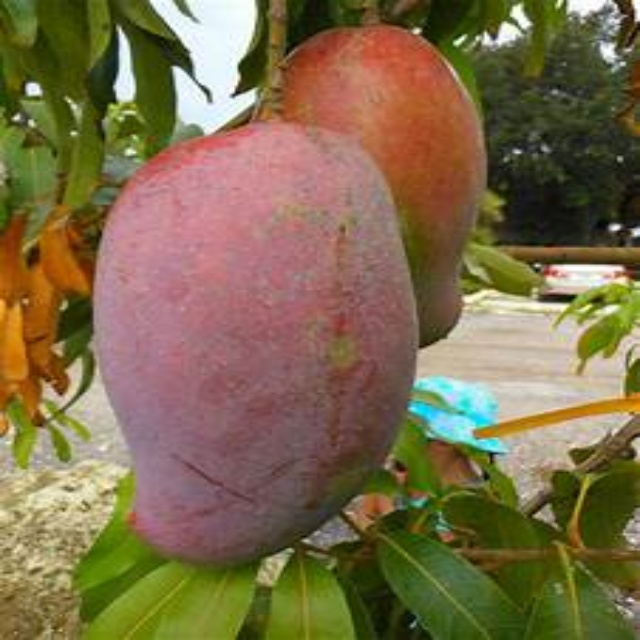mango: (97, 127, 414, 561), (267, 31, 481, 342)
